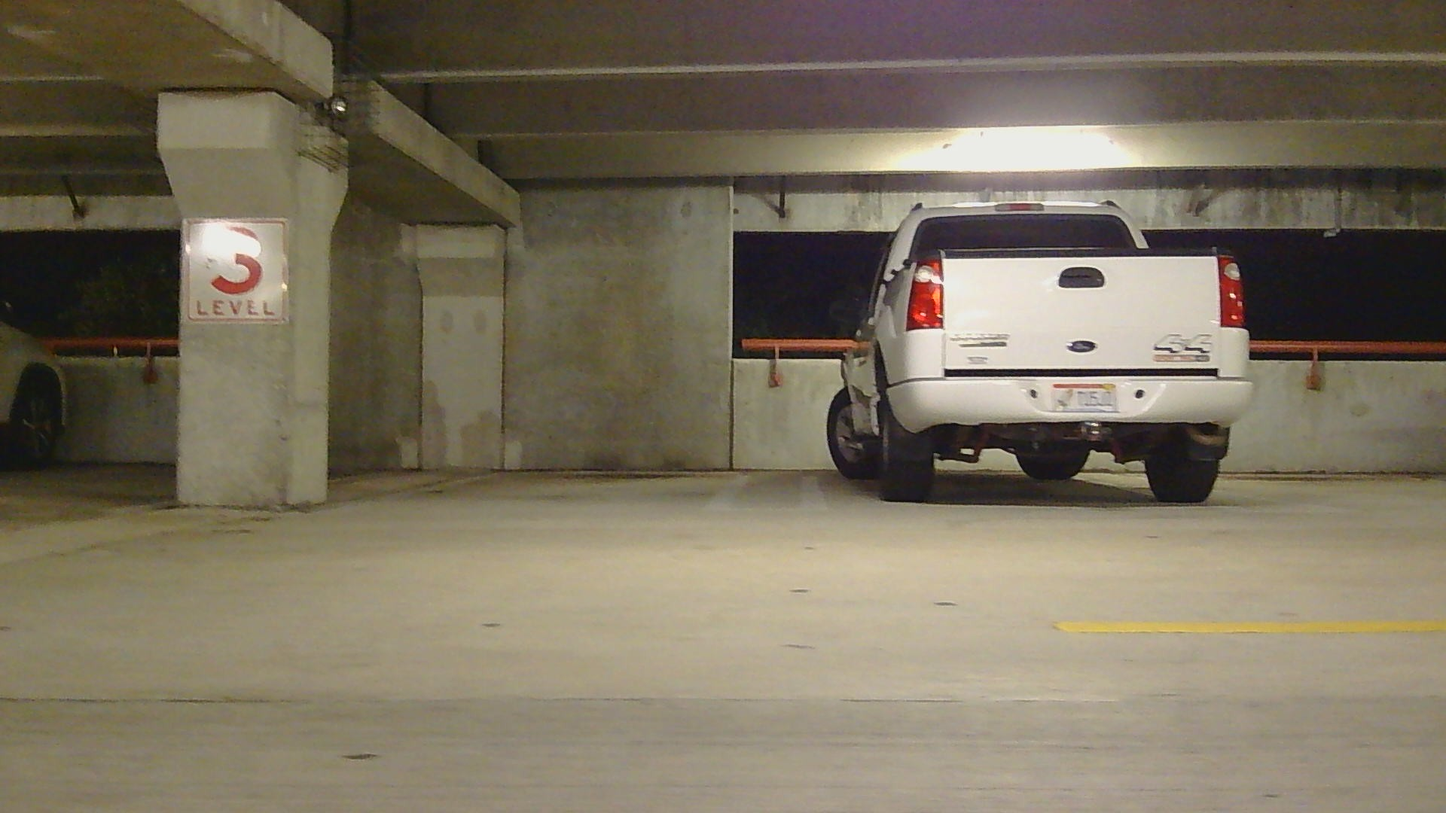empty_spot: (304, 403, 736, 521)
occupied_spot: (823, 203, 1249, 507)
